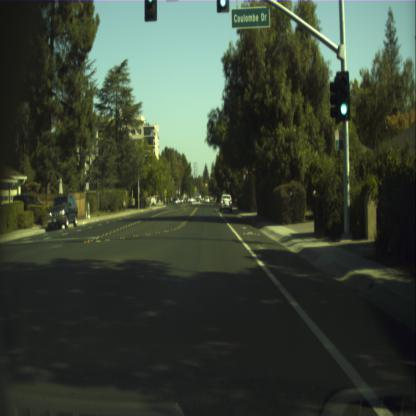Green: (336, 72, 349, 118), (144, 0, 156, 19), (217, 0, 228, 11)
